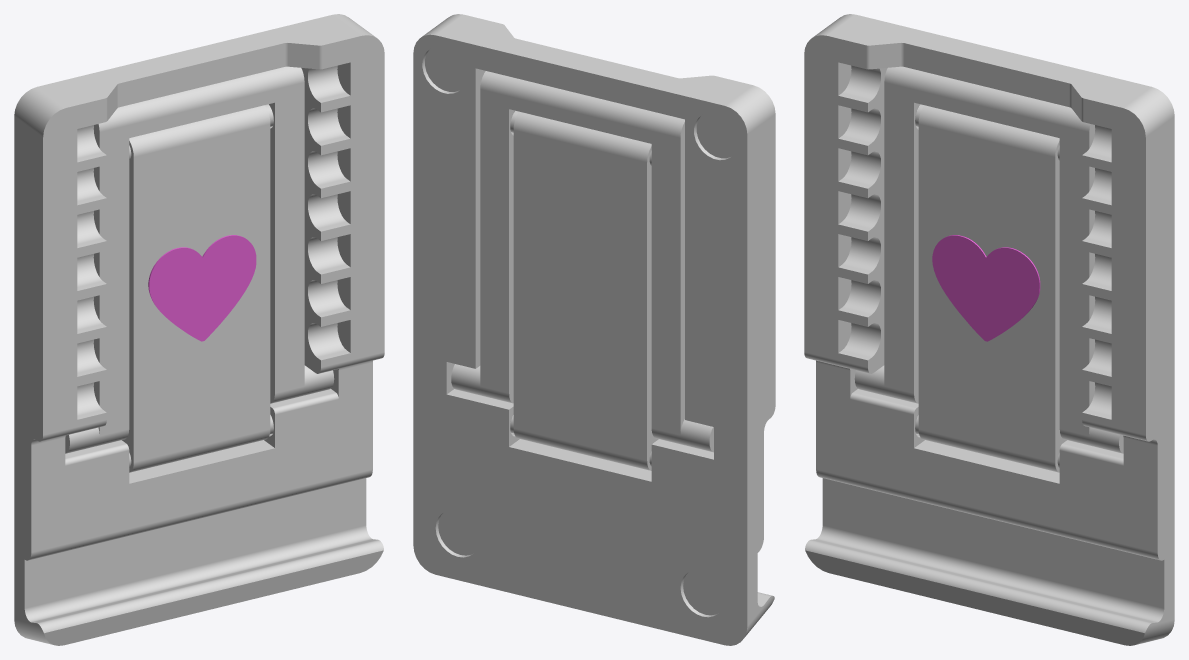
Rendered from phone stand.glb.
3 renders of one model, left to right at view 1: azimuth 30°, elevation 25°; view 2: azimuth 150°, elevation 25°; view 3: azimuth 330°, elevation 25°, orthographic. The views are drawn at different scales.
Parts seen in each view (by area): view 1: root; view 2: root; view 3: root.
Part boxes in pixels (x1=…): root: x1=14, y1=14, x2=384, y2=645; root: x1=413, y1=14, x2=775, y2=645; root: x1=804, y1=14, x2=1174, y2=645.
Size of the model in its own units: 1.3 by 2 by 0.19.
